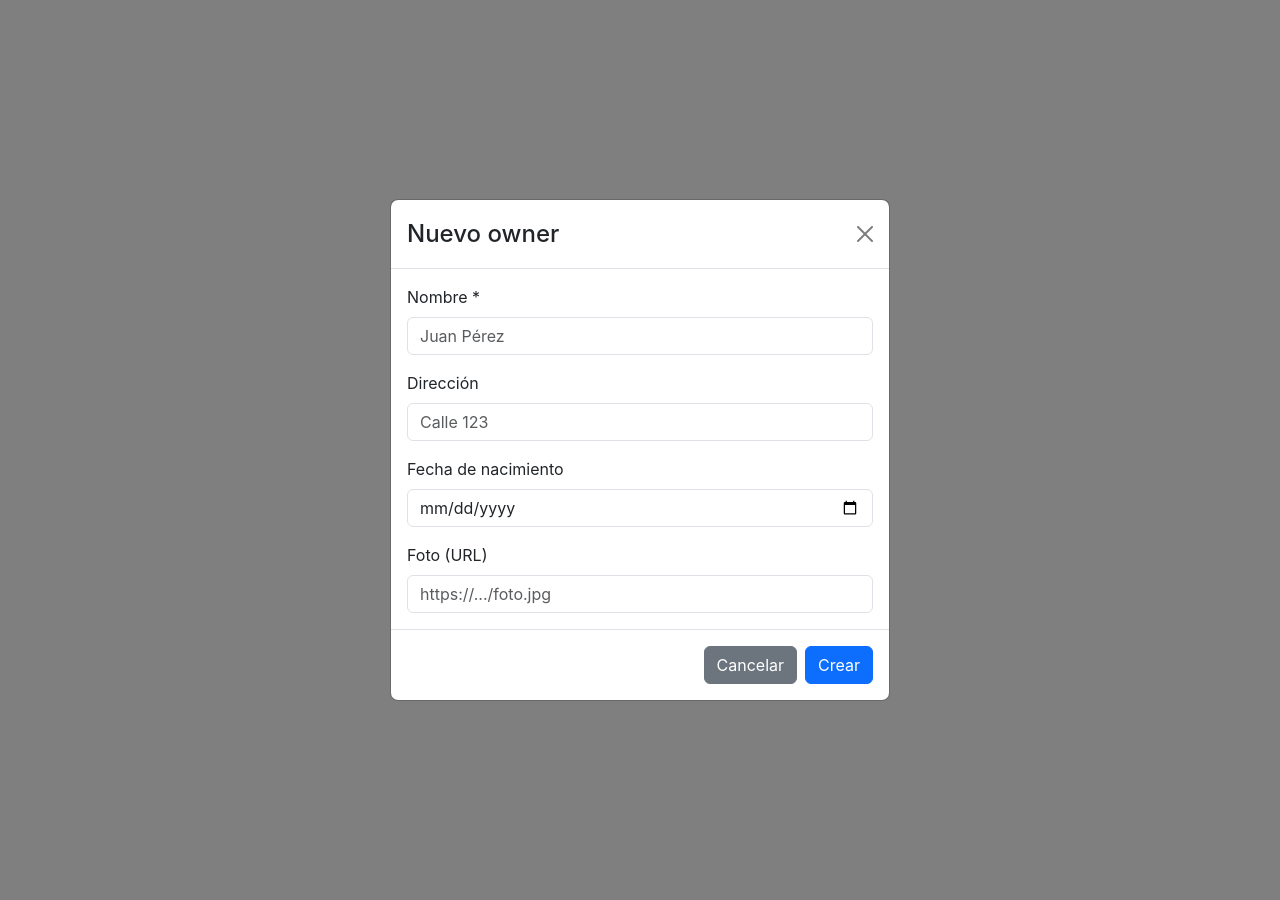
muestra alerta de error si createOwner falla
Type "X" into the field labelled "Nombre *" at (640, 336), box [407,317,873,355]
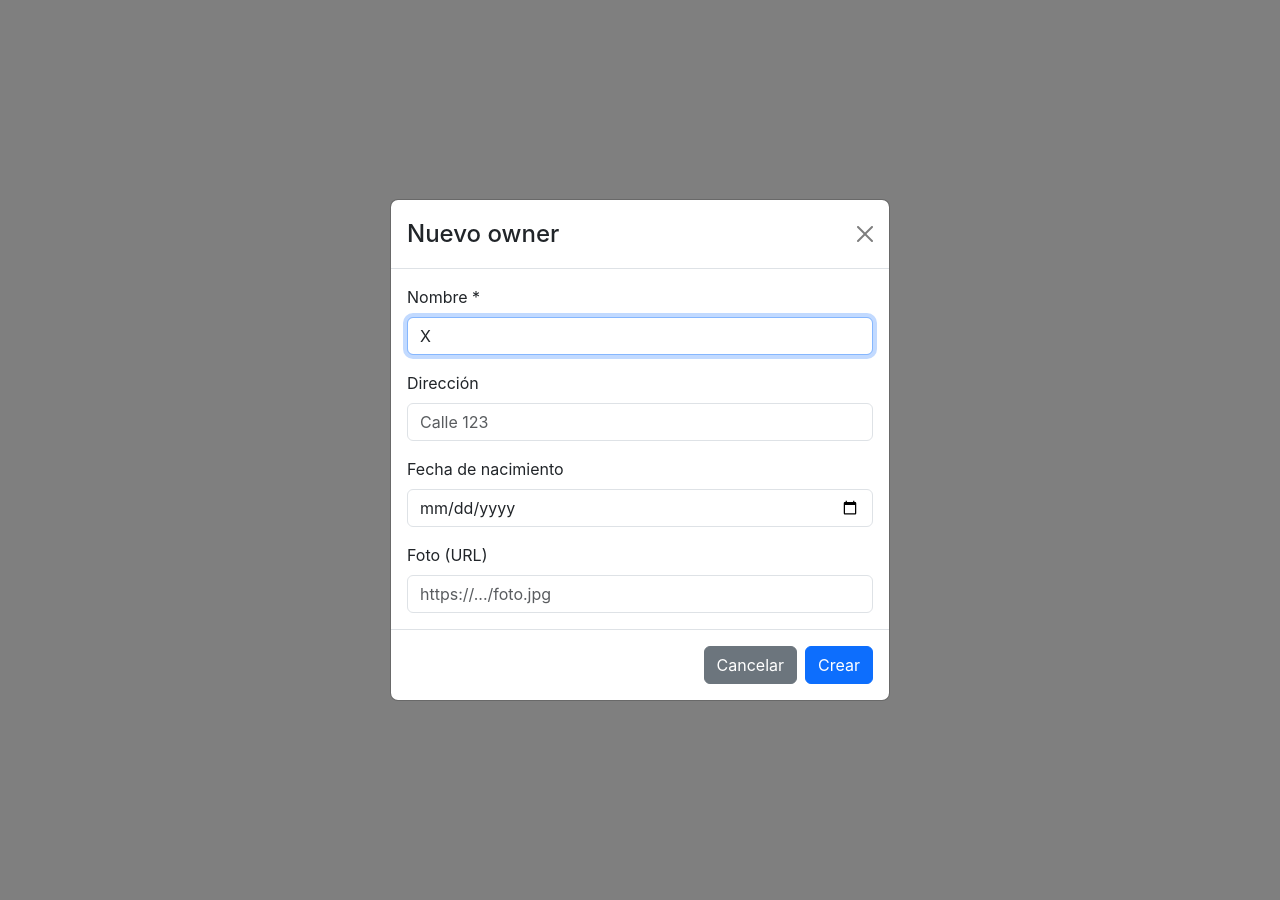
Type "Y" into the field labelled "Dirección" at (640, 422), box [407,403,873,441]
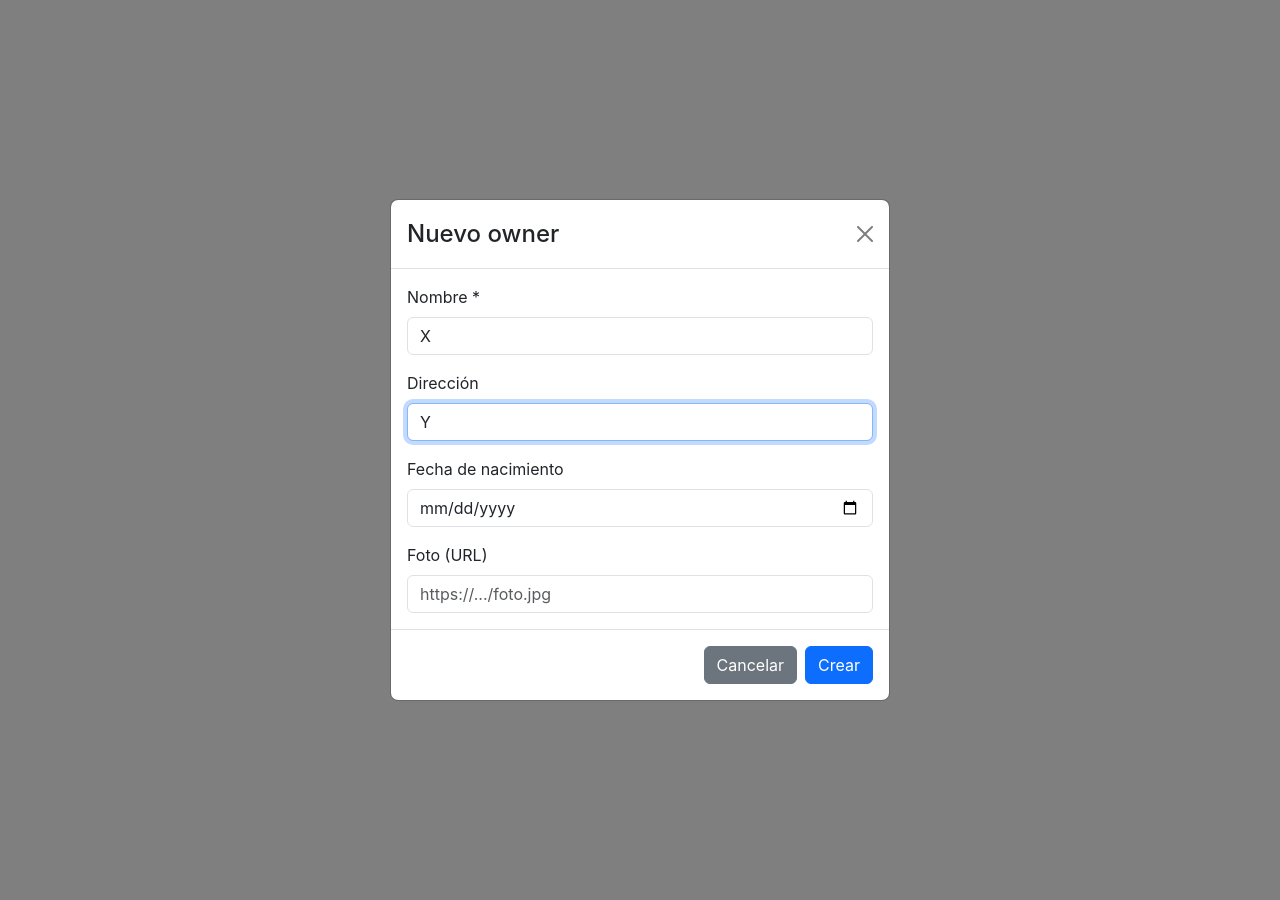
Type "2010-10-10" into the date field labelled "Fecha de nacimiento" at (640, 508), box [407,489,873,527]
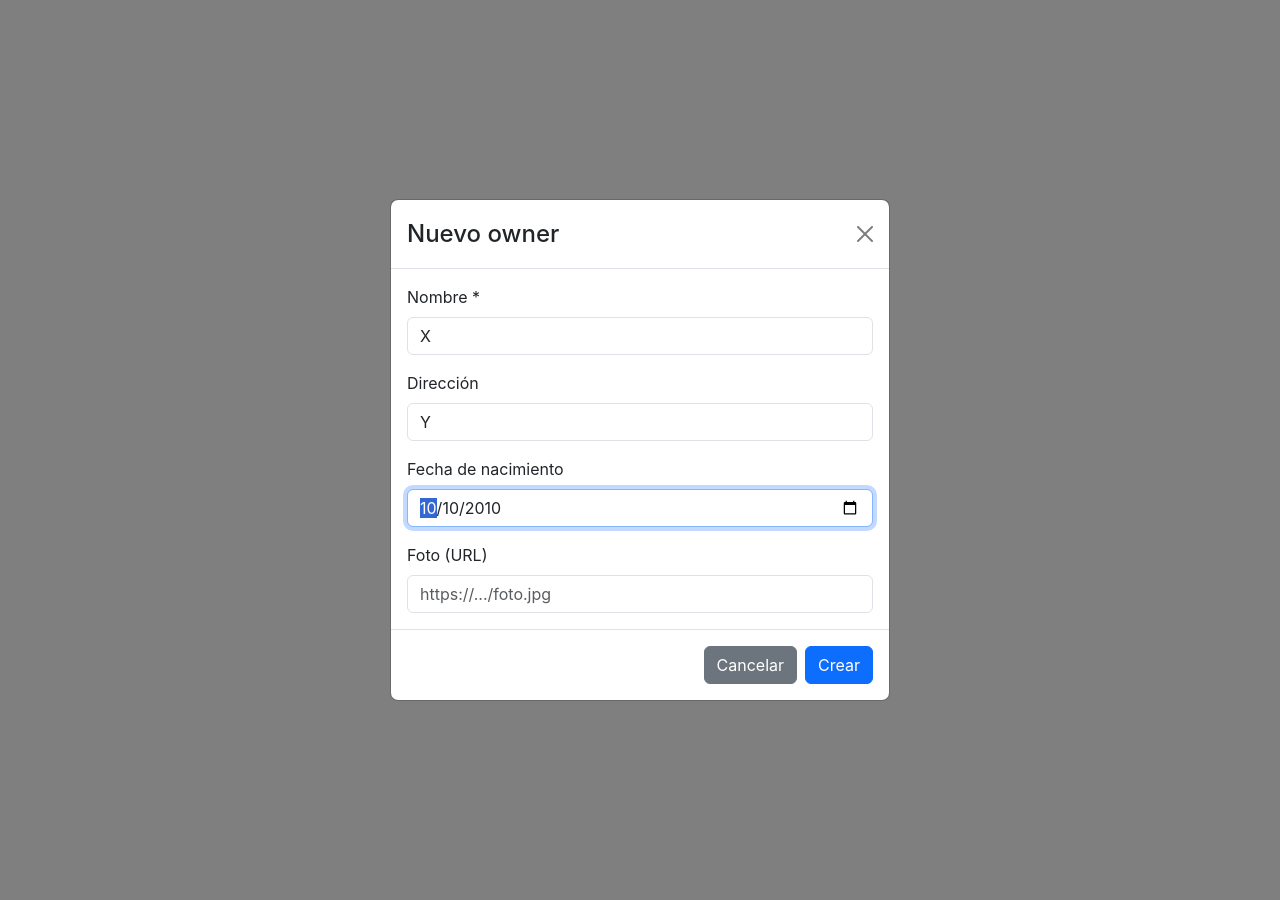
Type "https://x/y.jpg" into the field labelled "Foto (URL)" at (640, 594), box [407,575,873,613]
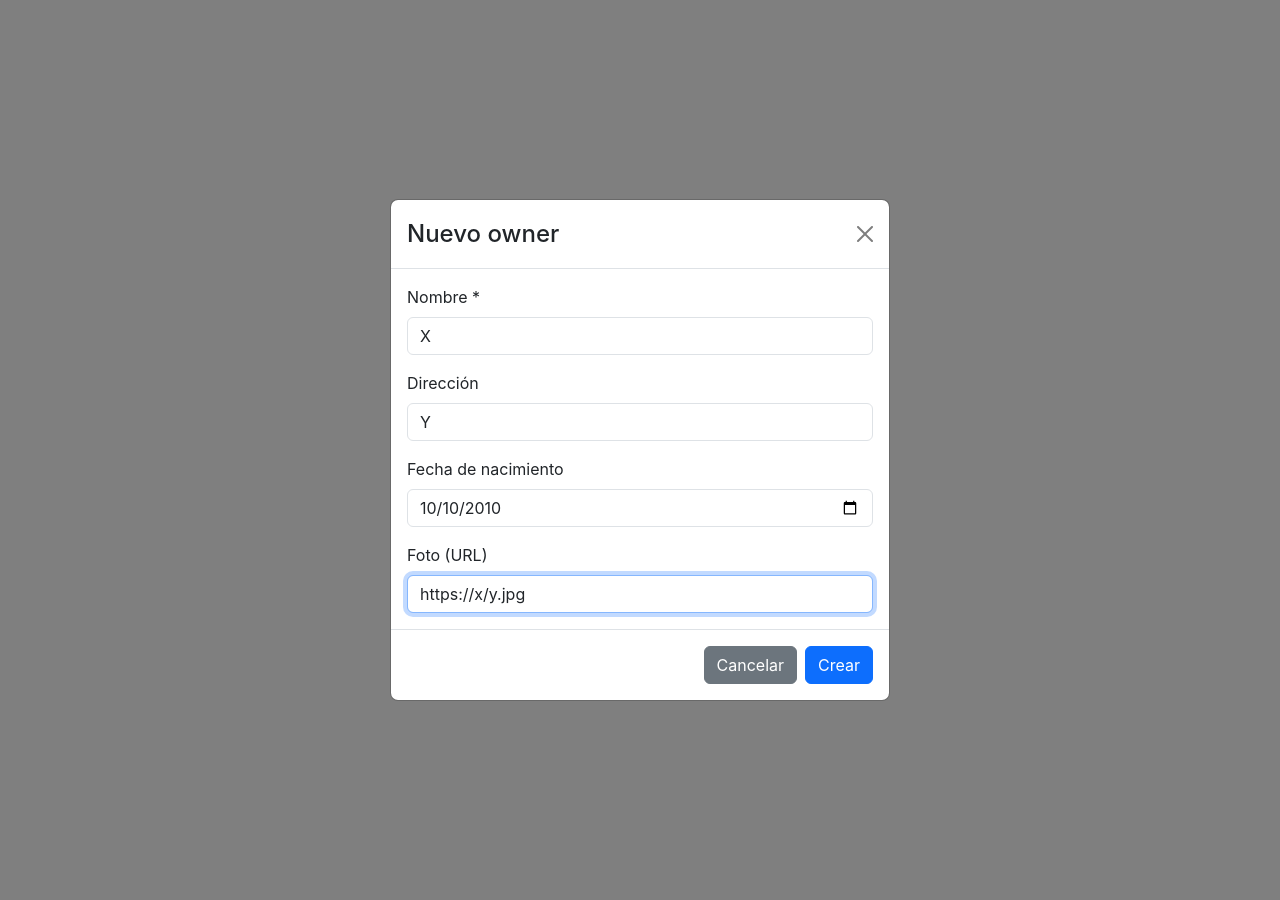
Click the button "Crear" at (839, 665), box [805,646,873,684]
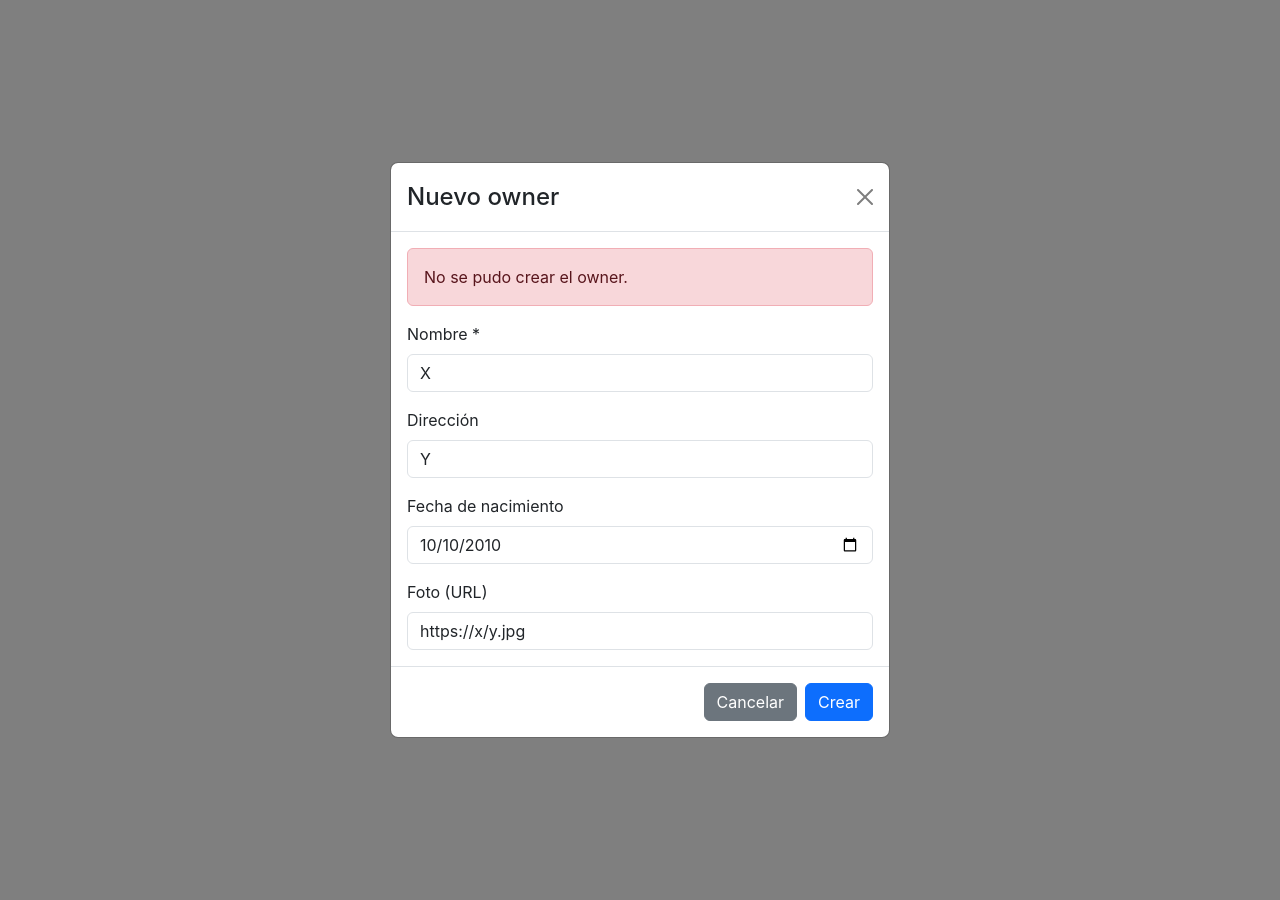
expect the button "Crear" is enabled: met, box [805,683,873,721]
expect the text "No se pudo crear el owner." is shown: met, box [407,248,873,306]
